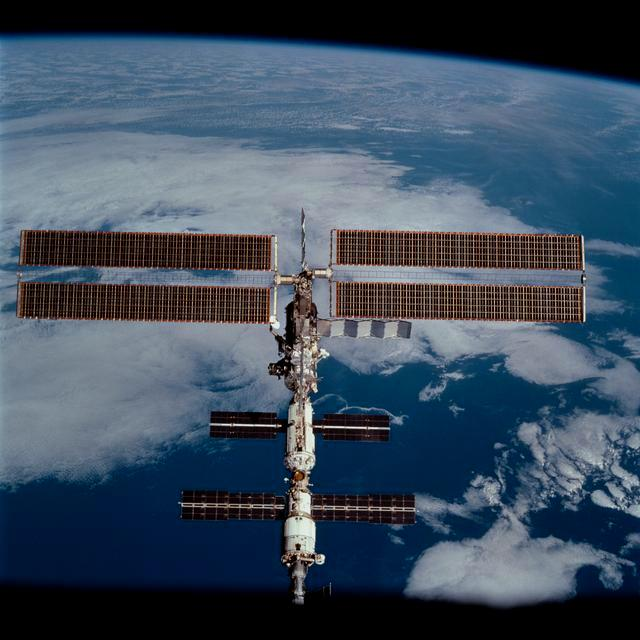medium_debris: (16, 214, 586, 602)
